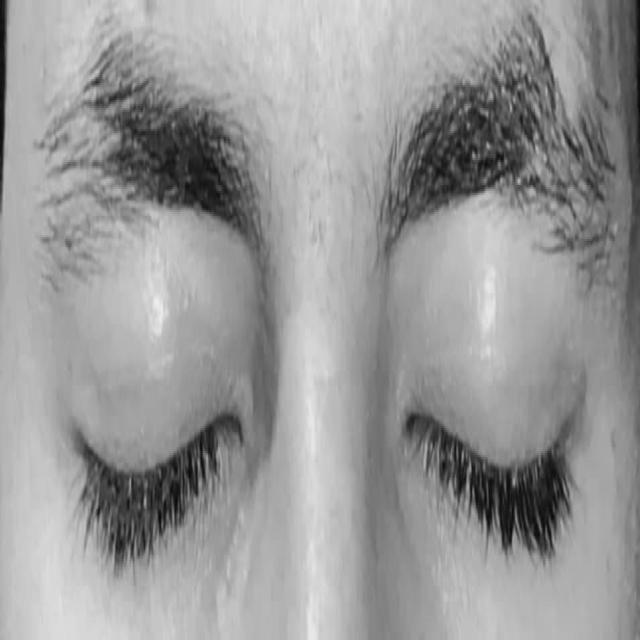real: (55, 200, 602, 576)
